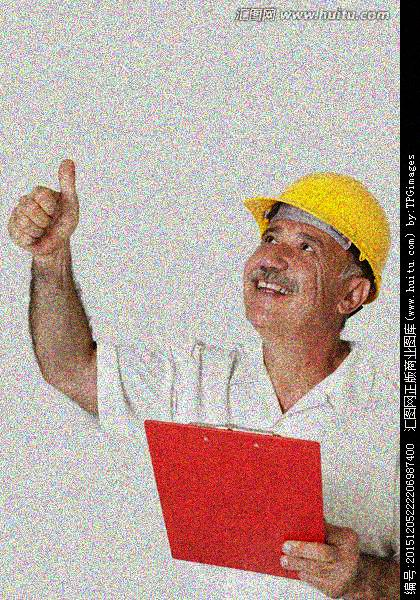helmet: (238, 171, 393, 331)
